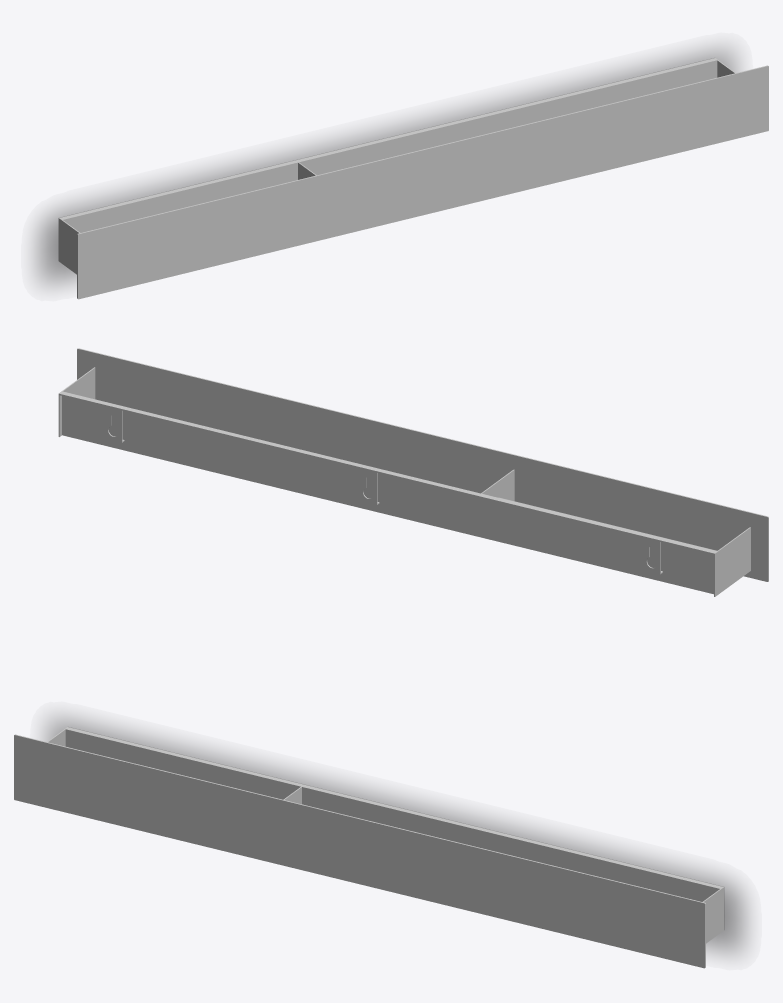
The model's file is skyline-double.5d103ed5b5.ar.glb.
The picture shows the model from 3 angles, top to bottom: view 1: azimuth 30°, elevation 25°; view 2: azimuth 150°, elevation 25°; view 3: azimuth 330°, elevation 25°; orthographic projection.
Visible parts, largest first — view 1: NAUO1, object 2; view 2: NAUO1; view 3: NAUO1, object 2.
Boxes of the visible parts, <box> form: NAUO1: <box>58,57,768,299</box>; object 2: <box>34,48,738,285</box>; NAUO1: <box>58,348,768,596</box>; NAUO1: <box>14,726,724,968</box>; object 2: <box>44,717,748,954</box>.
Bounding box in the file's own units: 1.08 × 0.17 × 0.092.
2 materials, 1 textured.
